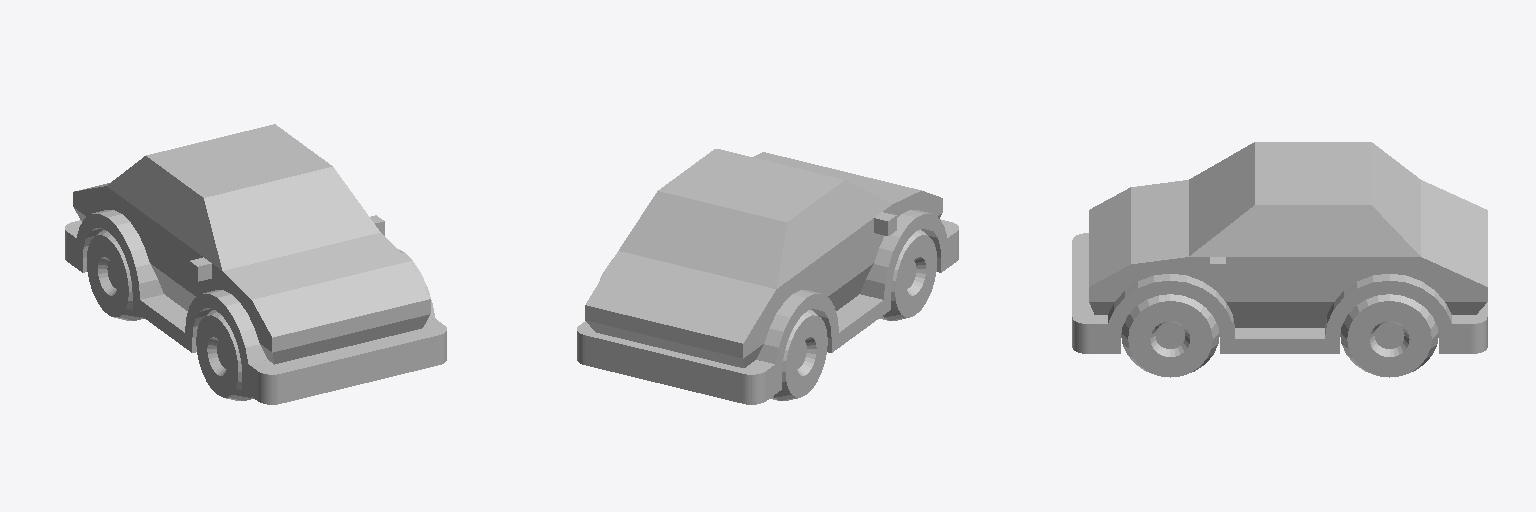
File: sedanSports.obj
3 renders of one model, left to right at view 1: azimuth 30°, elevation 25°; view 2: azimuth 150°, elevation 25°; view 3: azimuth 270°, elevation 25°, orthographic.
Visible parts, largest first — view 1: body, wheel_backRight, wheel_frontRight; view 2: body, wheel_frontRight, wheel_backRight; view 3: body, wheel_backLeft, wheel_frontLeft.
Part boxes in pixels (left/top/right/bottom): body: left=65, top=124, right=446, bottom=404; wheel_backRight: left=87, top=229, right=144, bottom=320; wheel_frontRight: left=196, top=310, right=253, bottom=400; body: left=577, top=149, right=958, bottom=404; wheel_frontRight: left=879, top=229, right=936, bottom=320; wheel_backRight: left=770, top=310, right=827, bottom=400; body: left=1072, top=142, right=1487, bottom=353; wheel_backLeft: left=1340, top=294, right=1438, bottom=377; wheel_frontLeft: left=1121, top=294, right=1219, bottom=377.
Bounding box in the file's own units: 0.975 × 0.825 × 1.88.